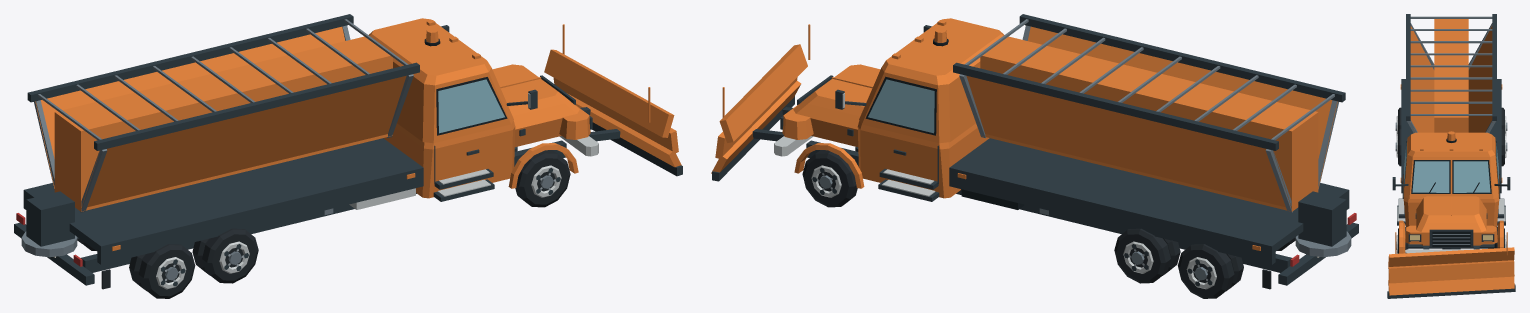
File: b15_snowplow_spreader_truck.glb
3 views of the same model, side by side, from view 1: azimuth 30°, elevation 25°; view 2: azimuth 150°, elevation 25°; view 3: azimuth 270°, elevation 25° (orthographic). The views are drawn at different scales.
Visible parts, largest first — view 1: b15_snowplow_spreader_truck; view 2: b15_snowplow_spreader_truck; view 3: b15_snowplow_spreader_truck.
Boxes of the visible parts, left/top/right/bottom form: b15_snowplow_spreader_truck: left=14, top=14, right=682, bottom=298; b15_snowplow_spreader_truck: left=711, top=14, right=1358, bottom=298; b15_snowplow_spreader_truck: left=1387, top=14, right=1515, bottom=298.
Size of the model in its own units: 11.34 by 2.98 by 3.19.
